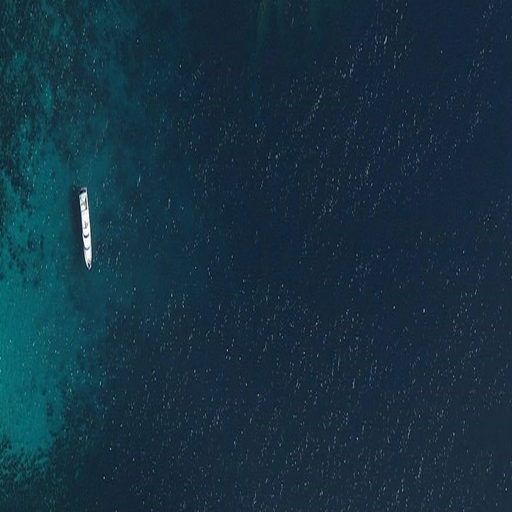ship: (76, 185, 96, 272)
